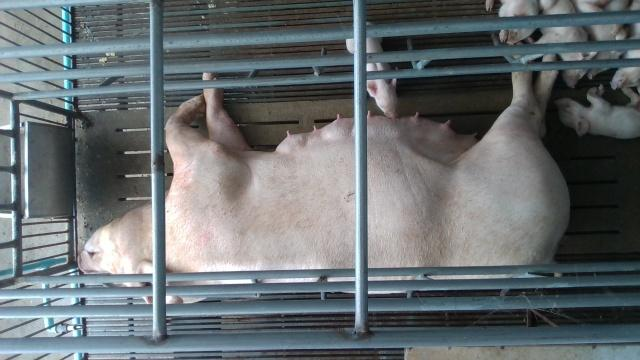piglet: (520, 0, 597, 88), (346, 22, 399, 119), (554, 86, 640, 139), (574, 1, 627, 79), (612, 0, 640, 89), (486, 0, 540, 43)
sow-sleep-lactate: (74, 69, 569, 303)
